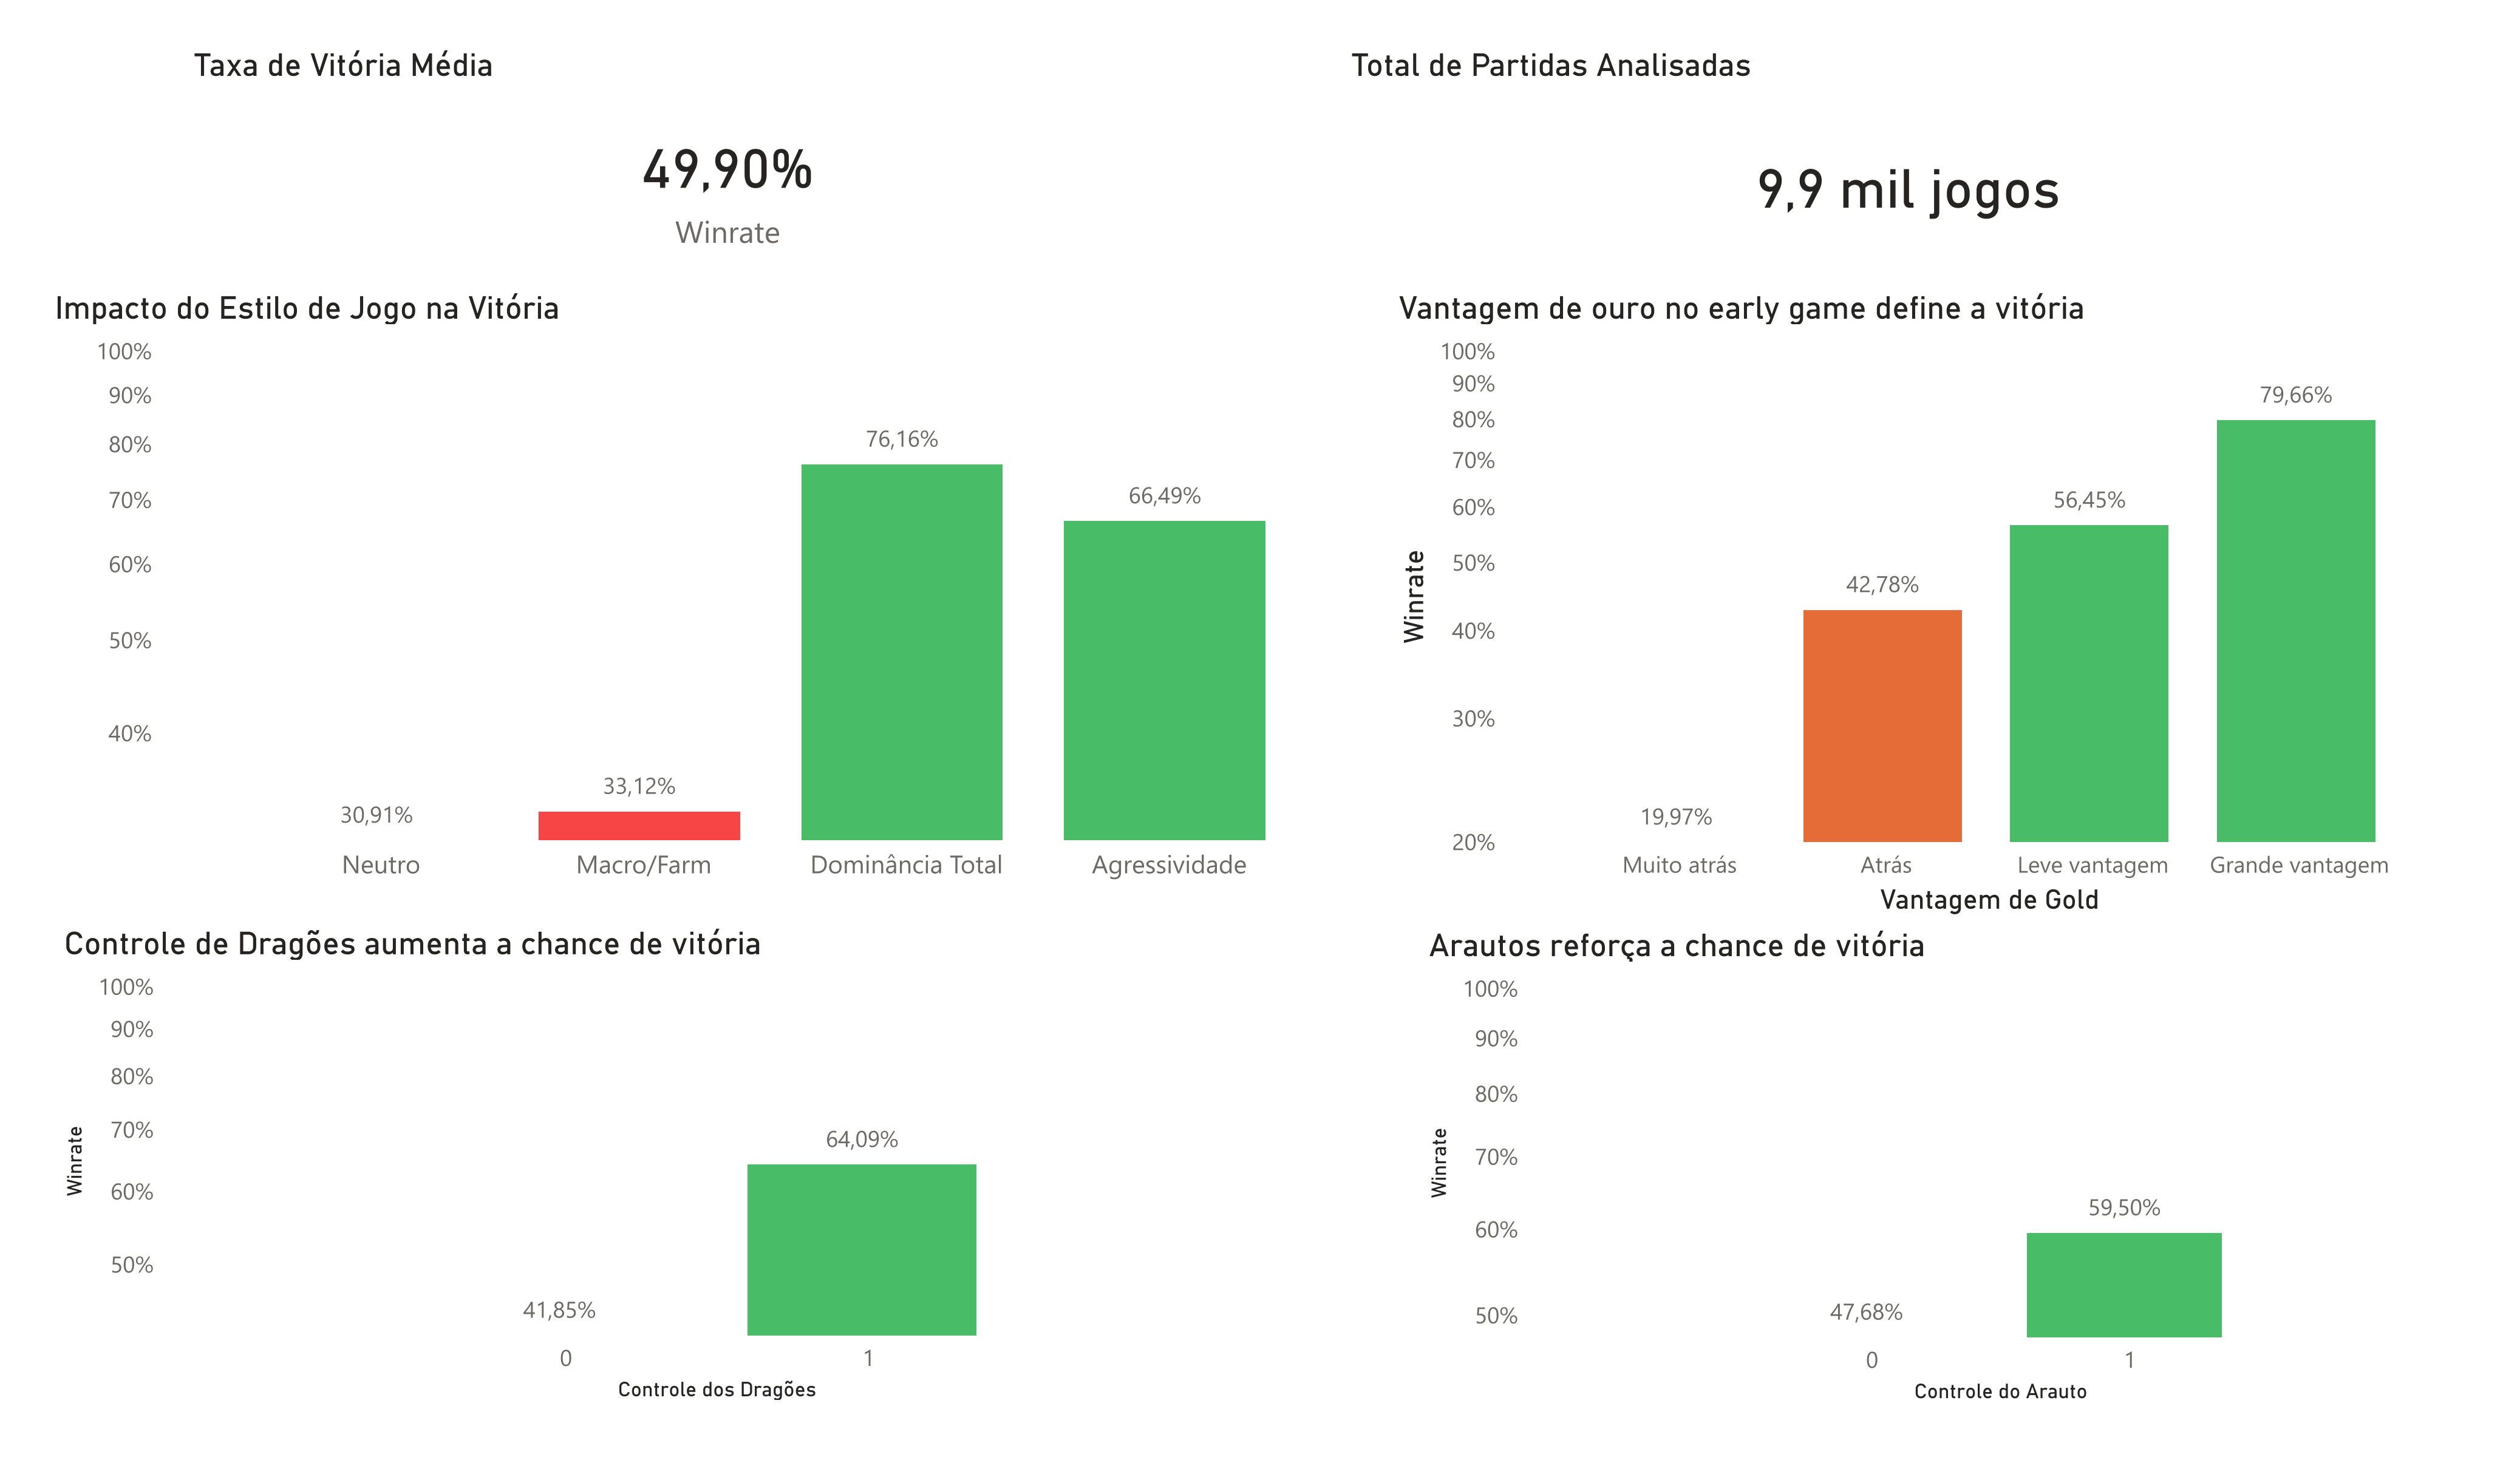

Layout of this report page (visuals, bound fields, positions):
{"tool":"powerbi","page":{"name":"Gráficos  1","canvas":[1280,720],"ordinal":0},"visuals":[{"type":"clusteredColumnChart","title":"Controle de Dragões aumenta a chance de vitória","fields":{"Category":["matches.blueDragons"],"Y":["matches.Winrate"]},"box":[5.4,463.4,640.2,255.7],"z":0},{"type":"clusteredColumnChart","title":" Arautos reforça a chance de vitória","fields":{"Category":["matches.blueHeralds"],"Y":["matches.Winrate"]},"box":[724,464,556,256],"z":1000},{"type":"clusteredColumnChart","title":"Impacto do Estilo de Jogo na Vitória","fields":{"Category":["matches.playstyle"],"Y":["matches.Winrate"]},"box":[0,127.8,707.8,335.6],"z":2000},{"type":"card","title":"Total de Partidas Analisadas","fields":{"Values":["matches.TotalGames"]},"box":[682.5,0,597.5,127.5],"z":3000},{"type":"card","title":"Taxa de Vitória Média","fields":{"Values":["matches.Winrate"]},"box":[73.3,0,572.2,127.8],"z":4000},{"type":"clusteredColumnChart","title":"Vantagem de ouro no early game define a vitória","fields":{"Category":["matches.goldCategory"],"Y":["matches.Winrate"]},"box":[707.8,127.8,572.2,335.6],"z":5000}]}

Visuals, with their boxes in screenshot pixels (x1, y1, x2, y2):
"Controle de Dragões aumenta a chance de vitória" clusteredColumnChart: 0:945:1136:1442
" Arautos reforça a chance de vitória" clusteredColumnChart: 1287:946:2367:1444
"Impacto do Estilo de Jogo na Vitória" clusteredColumnChart: 0:294:1256:945
"Total de Partidas Analisadas" card: 1207:46:2367:293
"Taxa de Vitória Média" card: 24:46:1135:294
"Vantagem de ouro no early game define a vitória" clusteredColumnChart: 1256:294:2367:945
